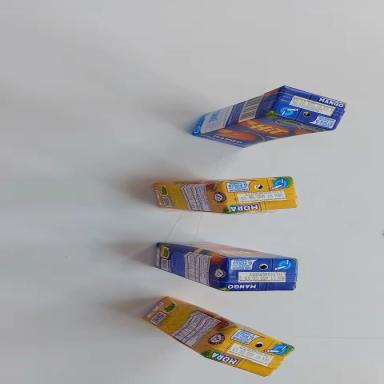HIT-MANGO: (187, 75, 350, 156), (150, 234, 300, 303)
HIT-MORA: (140, 289, 295, 384), (153, 172, 297, 219)
cara_F: (196, 102, 333, 157), (158, 233, 296, 271), (153, 177, 290, 183)
